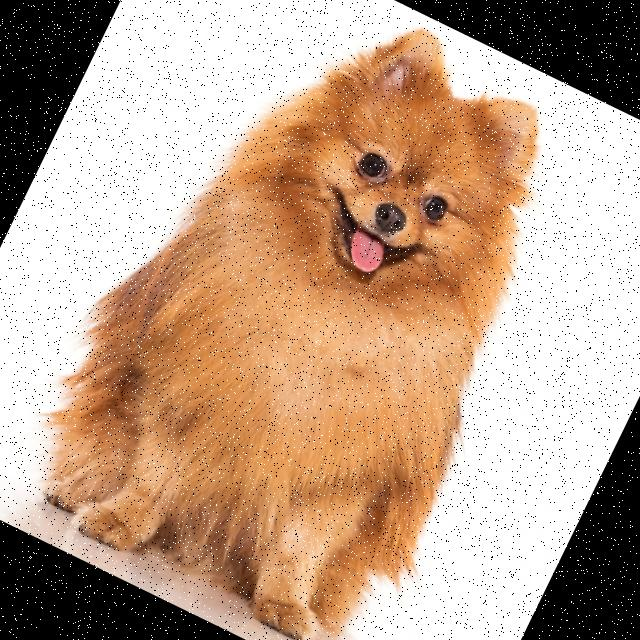Dog: (0, 0, 626, 640)
